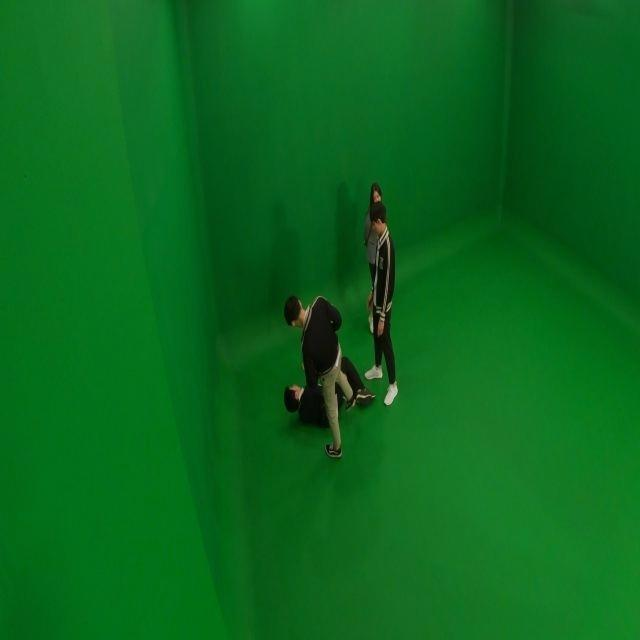fight: (278, 289, 370, 460)
non-fight: (362, 183, 397, 407)
